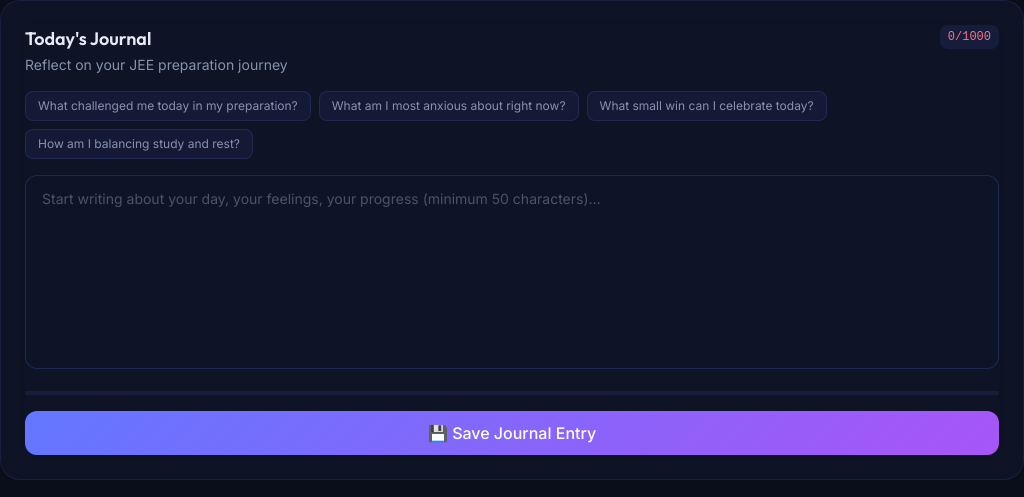
JournalEditor Component › shows character count in the UI
The image size is (1024, 497).
expect the text "0/1000" is shown: met, box top-left (940, 25), bottom-right (999, 49)
# Type some text
Type "Hello World" into the text box named "Journal entry input" at point(512, 272), box top-left (25, 175), bottom-right (999, 369)
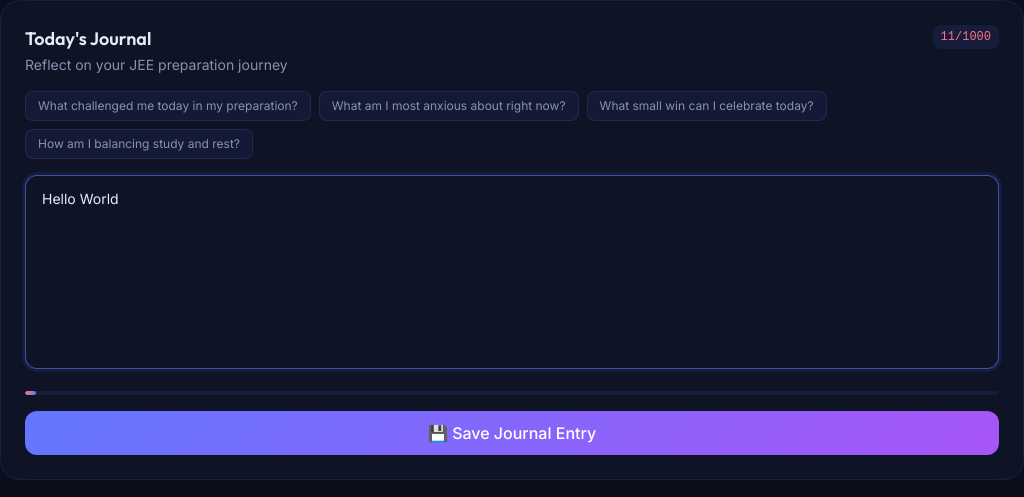
expect the text "11/1000" is shown: met, box top-left (933, 25), bottom-right (999, 49)
